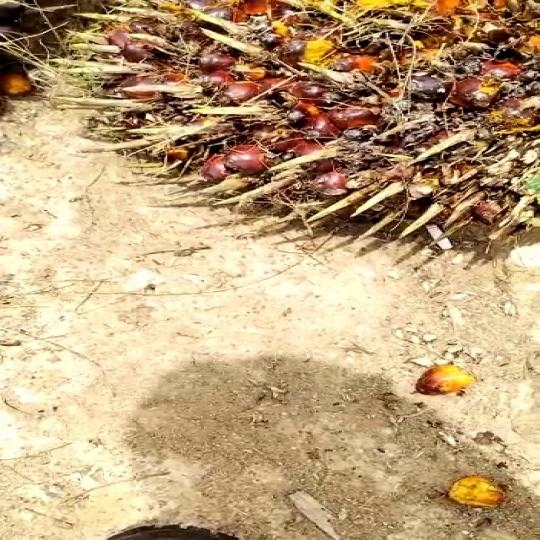masak: (59, 0, 538, 271)
